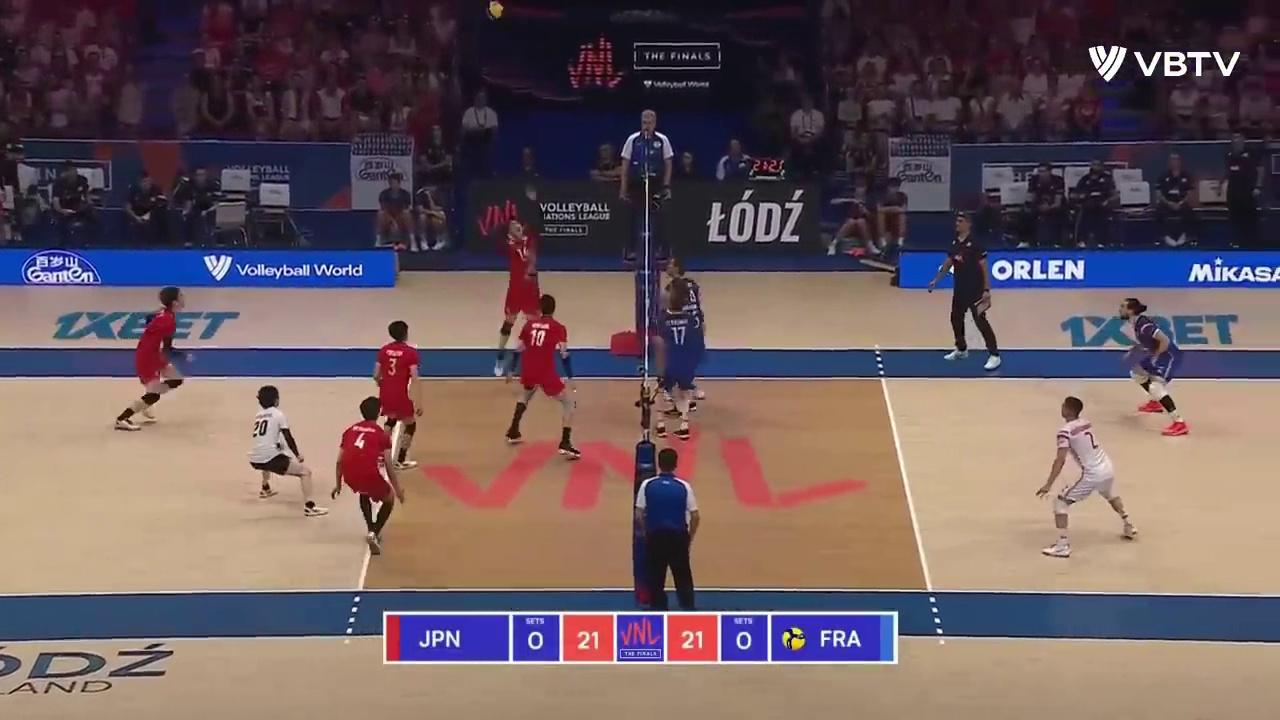ball: (484, 0, 505, 21)
